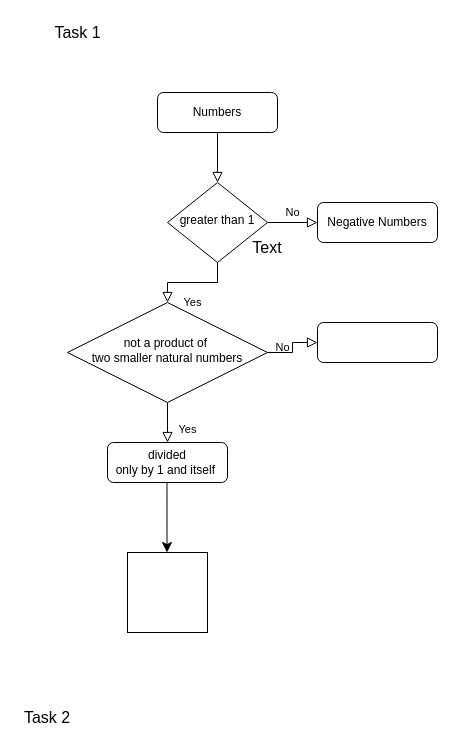
This 455x749 diagram has some shape labels left out. The centre of each missing label's shape, as x and y in pixels:
A composite number: (x=377, y=342)
Prime Numbers: (x=167, y=592)
